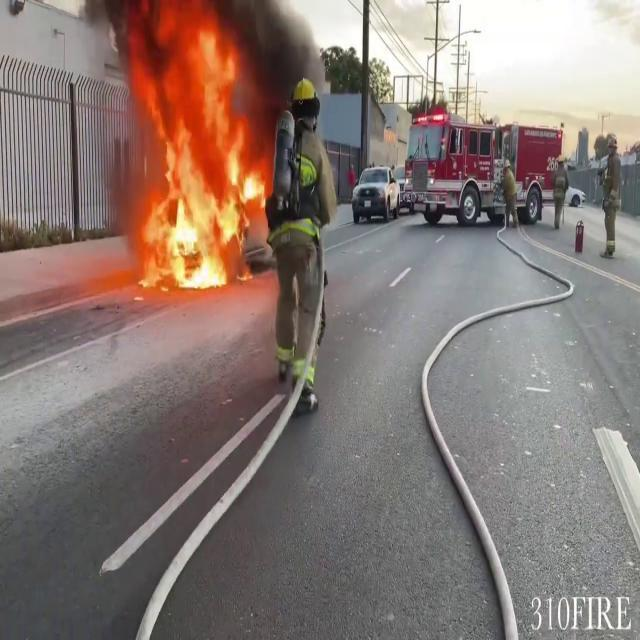Fire: (117, 13, 270, 291)
Smoke: (215, 1, 329, 103)
